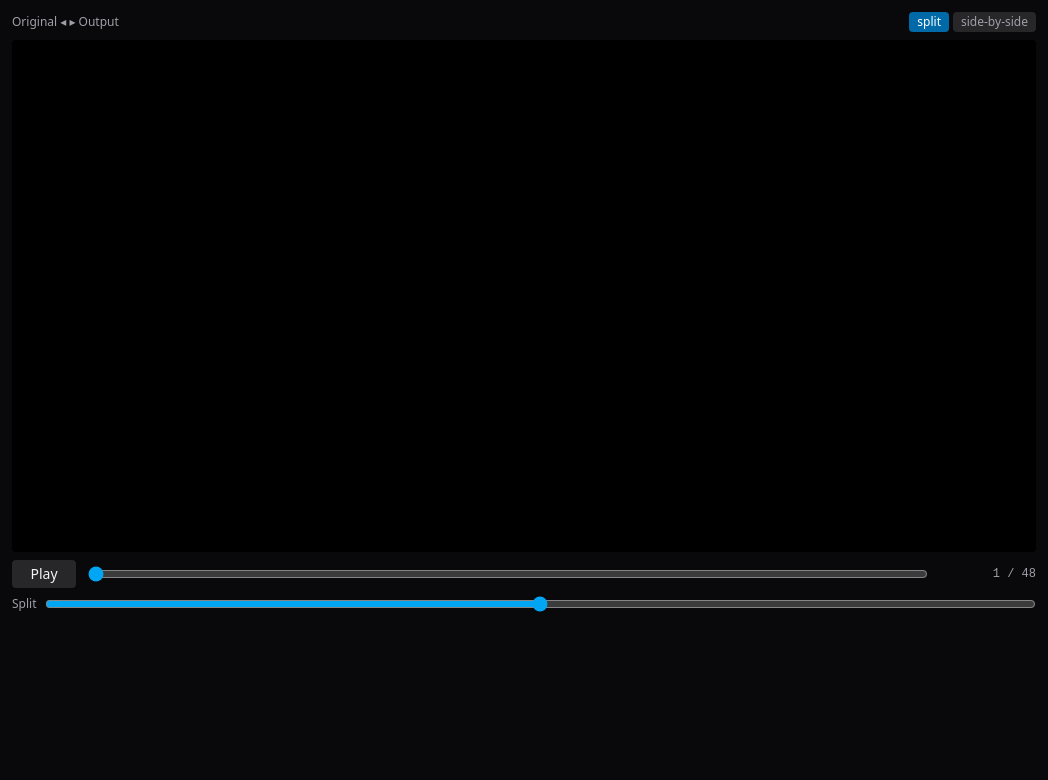
Test: DualCanvasPlayer › switches between split and side-by-side canvases
Check: the slider named "Split position" is shown, box [44, 596, 1036, 612]
Click the button "side-by-side": x=994, y=22 [953, 12, 1036, 32]
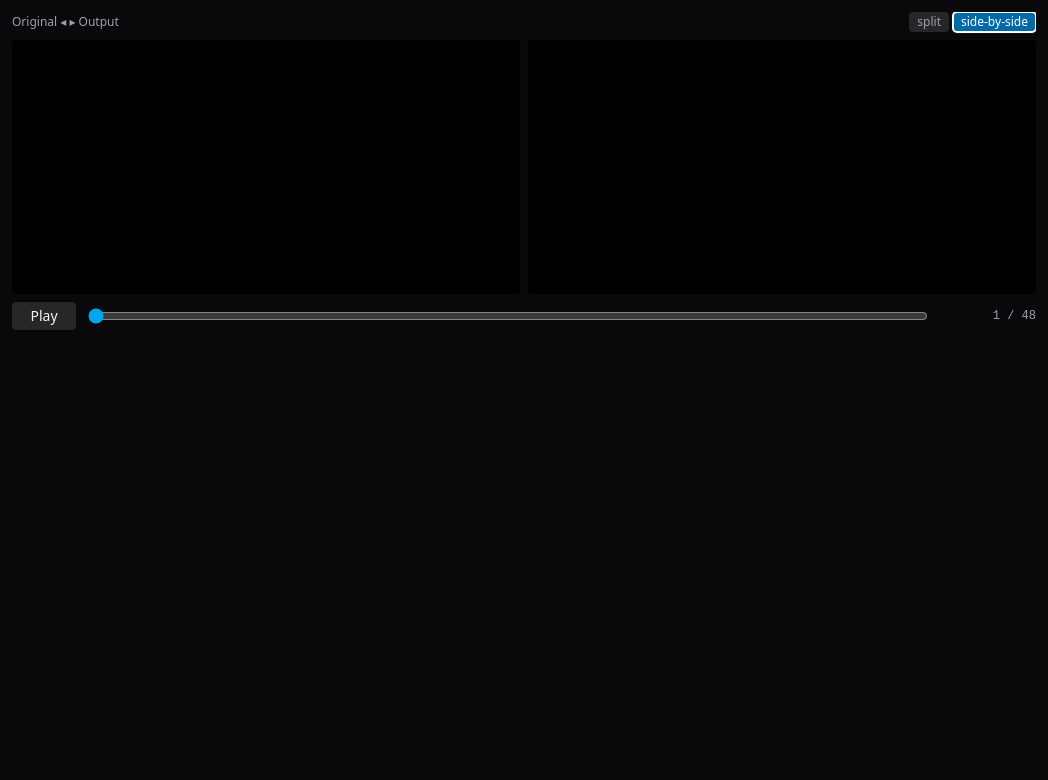
Check: the drawing with test id "split-canvas" is gone
